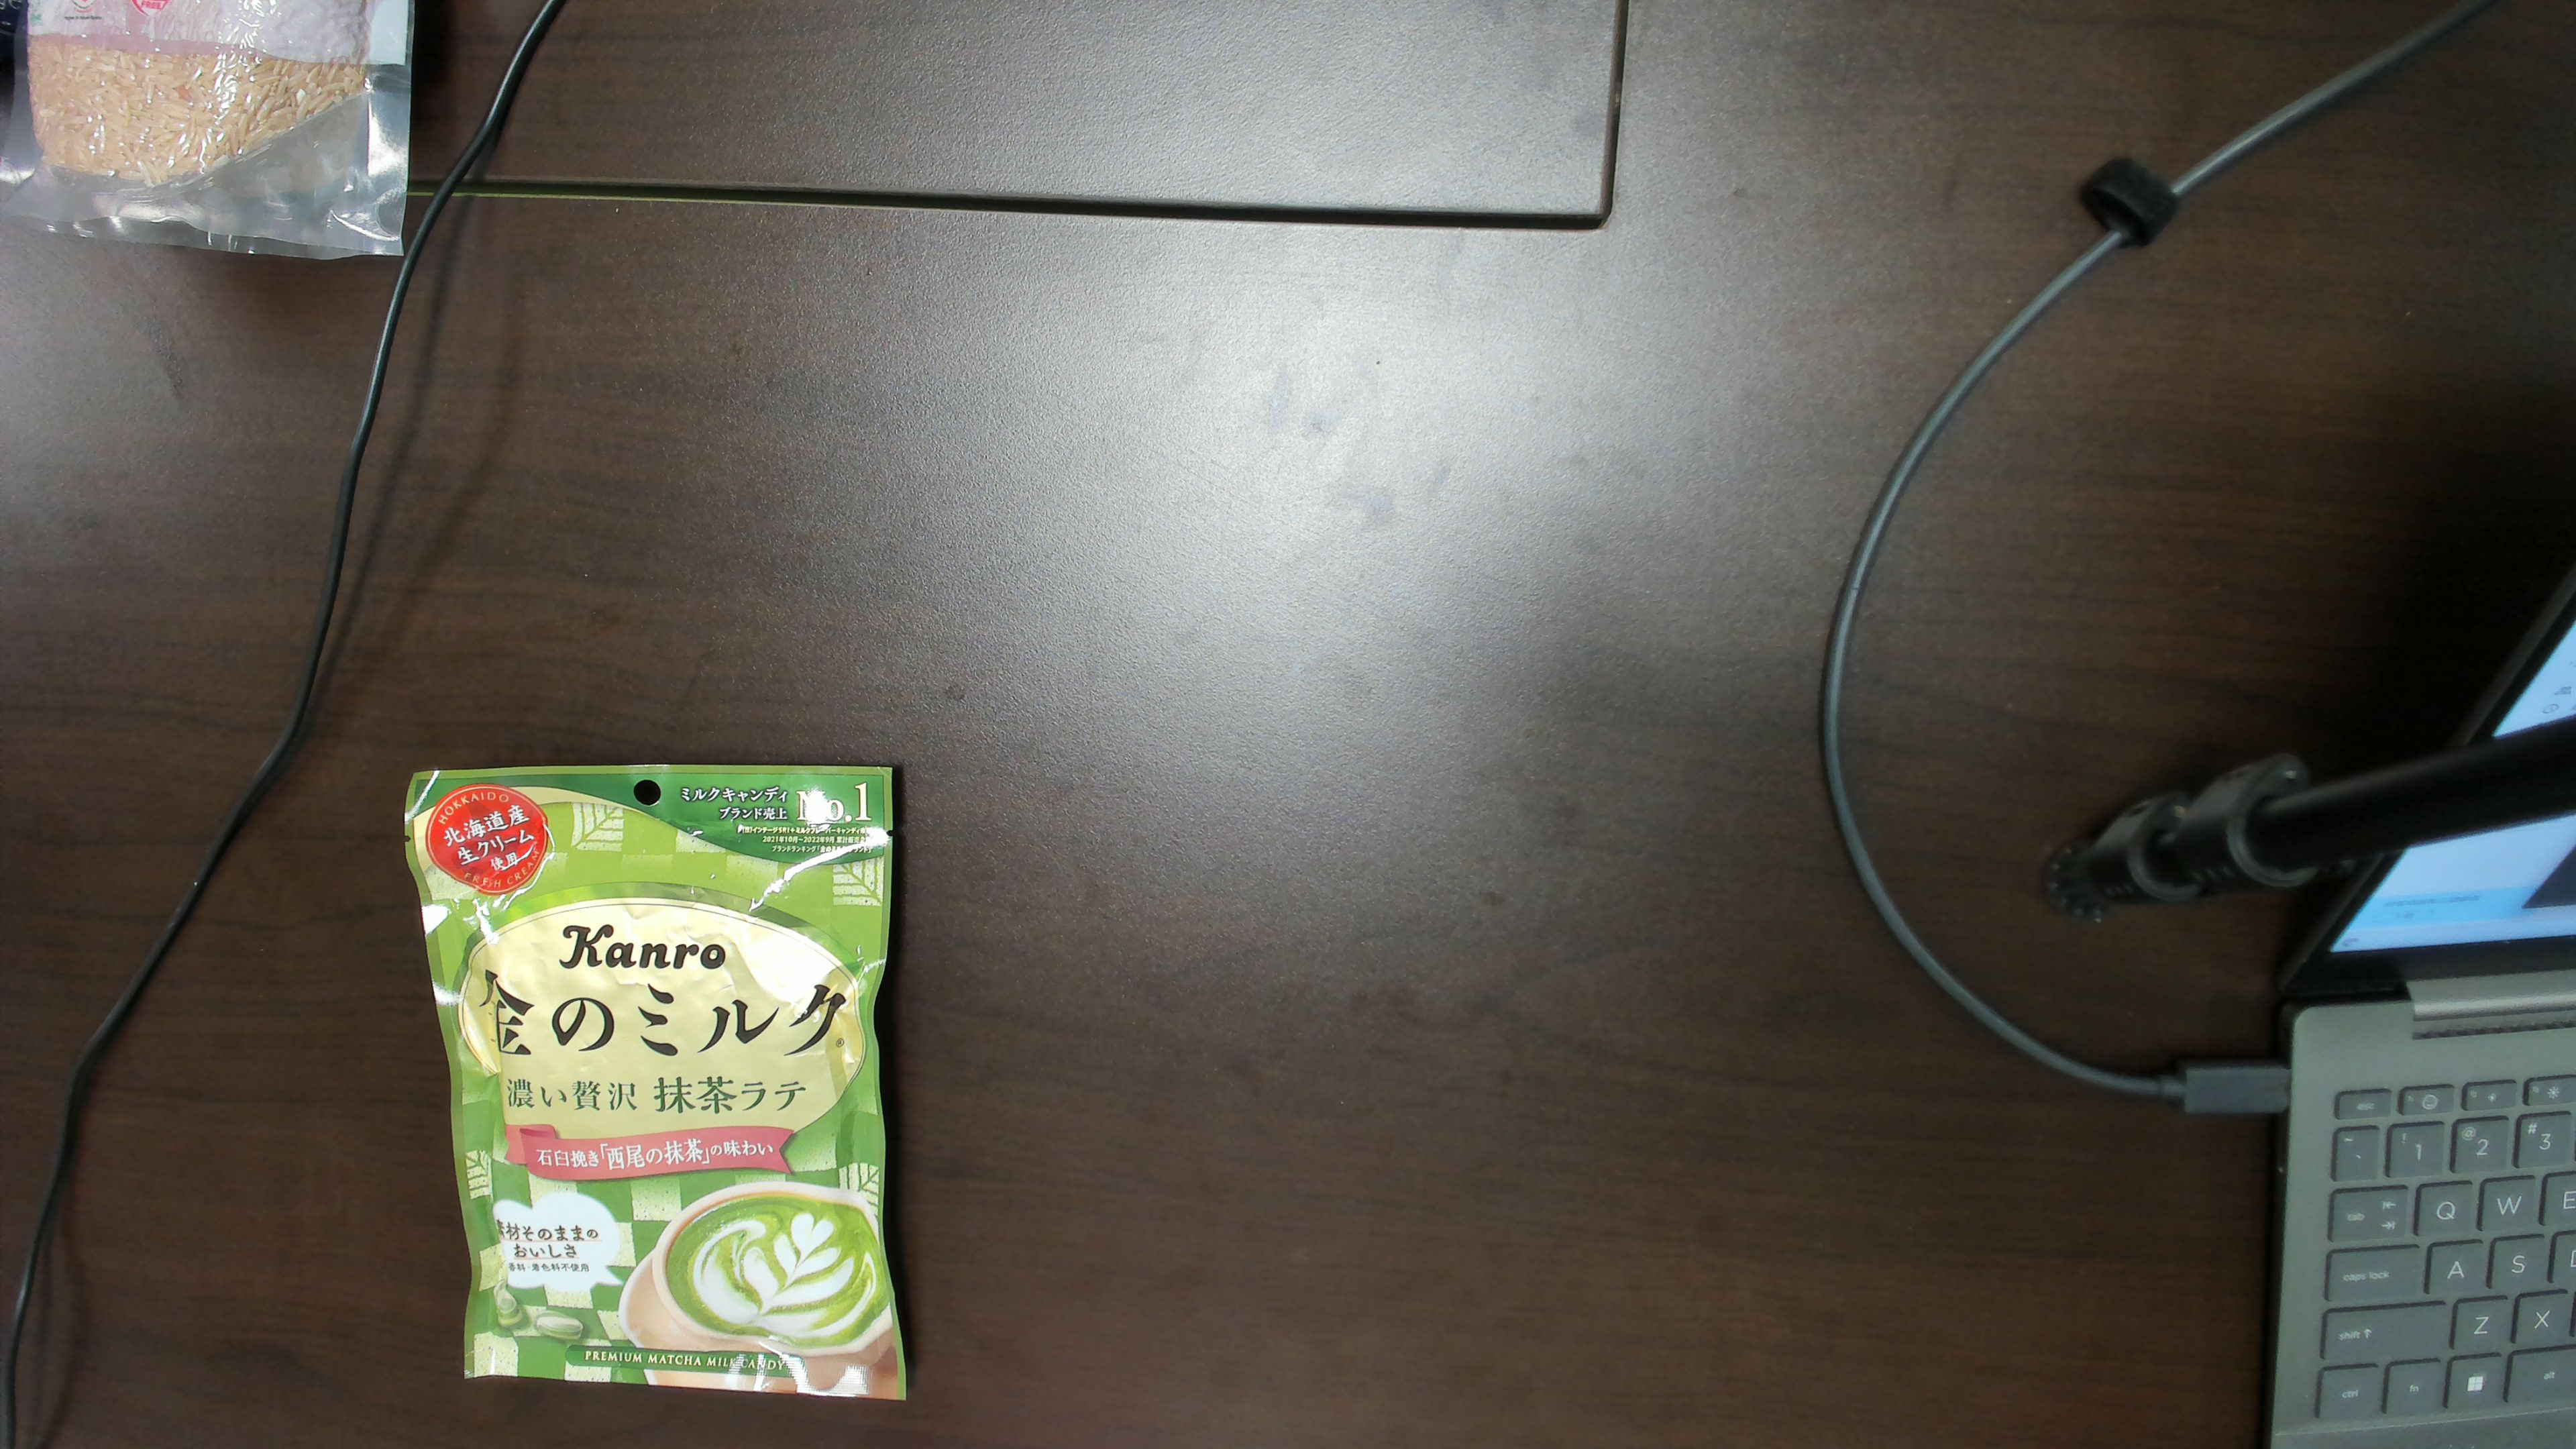SweetsChocolatesOthers_100-199g_NonHalal_NonHealthy: (416, 771, 895, 1378)
